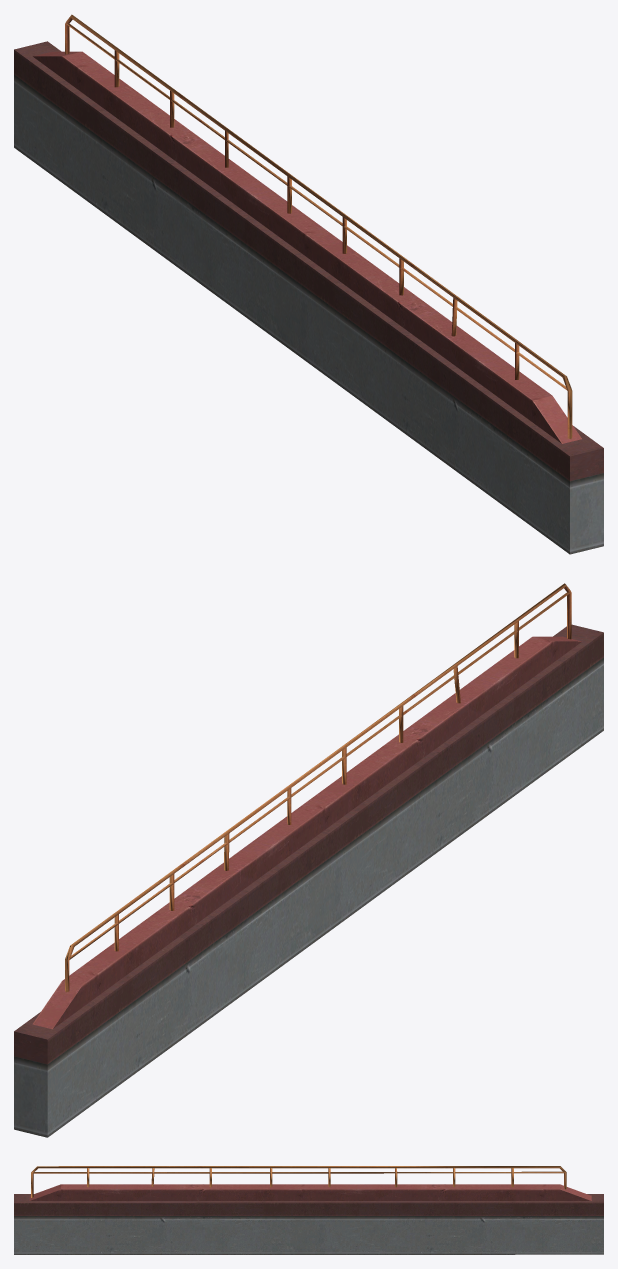
The model's file is Prop_Langan02.glb.
3 renders of one model, top to bottom at view 1: azimuth 30°, elevation 25°; view 2: azimuth 150°, elevation 25°; view 3: azimuth 270°, elevation 25°, orthographic. The views are drawn at different scales.
Parts seen in each view (by area): view 1: pvp_legionwar_langan02; view 2: pvp_legionwar_langan02; view 3: pvp_legionwar_langan02.
Boxes of the visible parts, left/top/right/bottom form: pvp_legionwar_langan02: left=14, top=14, right=603, bottom=554; pvp_legionwar_langan02: left=14, top=583, right=603, bottom=1137; pvp_legionwar_langan02: left=14, top=1166, right=603, bottom=1254.
Bounding box in the file's own units: 0.8827 × 3.94 × 24.94.
Materials: 1 (1 with a texture image).
